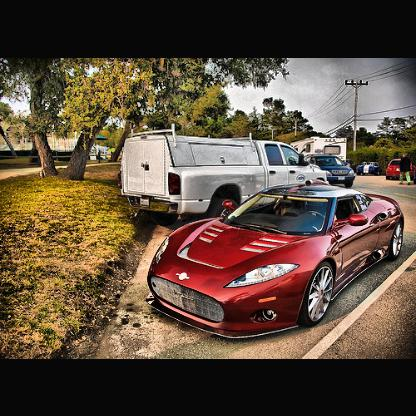Spyker C8 Coupe 2009: (146, 182, 406, 345)
